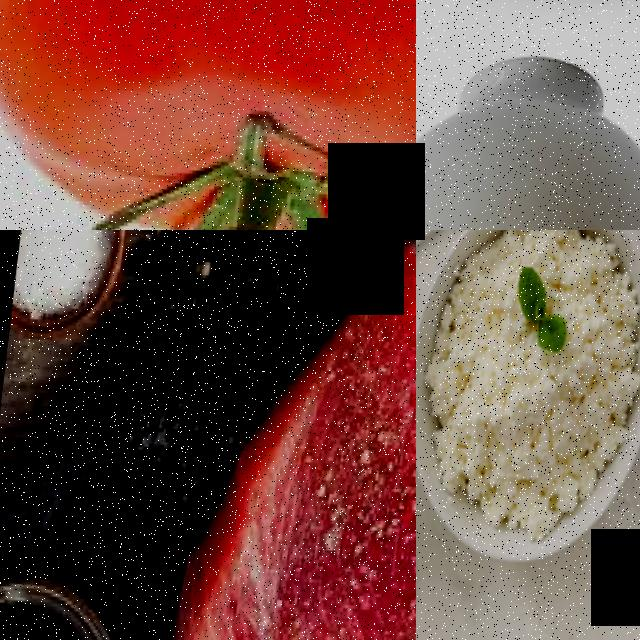tomato: (0, 0, 416, 230)
tuna: (157, 230, 416, 640)
white rice: (434, 350, 595, 528), (561, 237, 640, 384), (443, 241, 520, 364)
